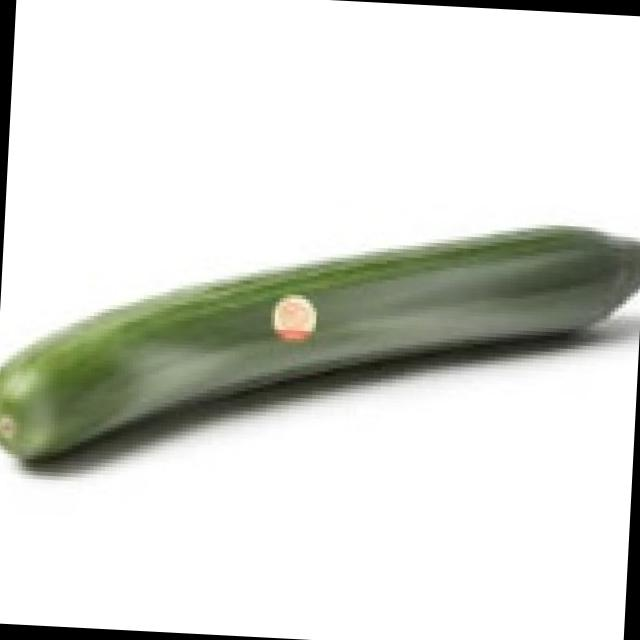cucumber: (0, 184, 640, 502)
